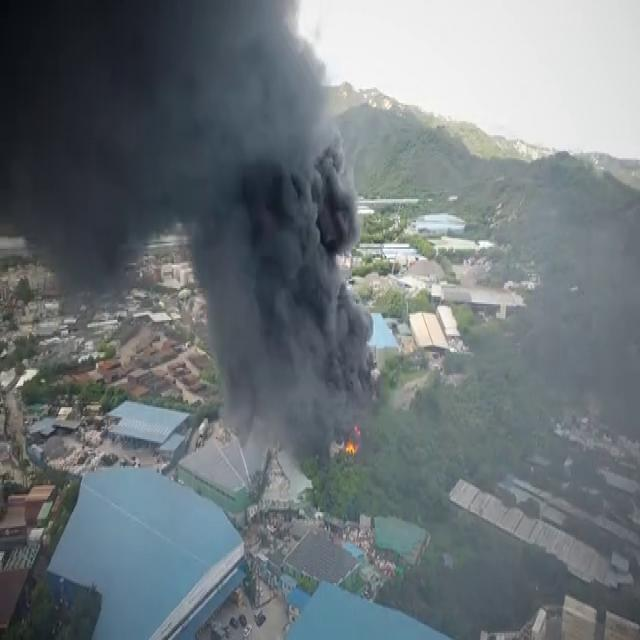smoke: (158, 3, 334, 237), (197, 216, 380, 424), (1, 9, 155, 232), (28, 215, 146, 292), (318, 137, 357, 250)
